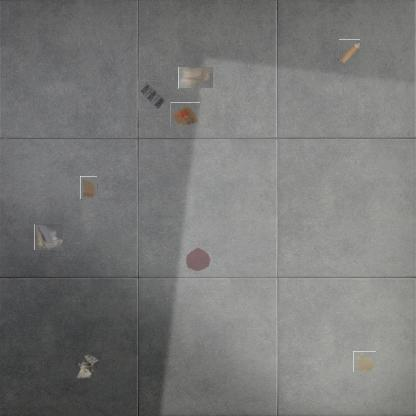dirty: (139, 80, 168, 110), (178, 68, 213, 90), (34, 224, 63, 250), (170, 102, 200, 127), (75, 352, 102, 379), (338, 39, 360, 64), (78, 177, 99, 198)
liquid: (184, 245, 212, 272), (353, 351, 376, 372)
